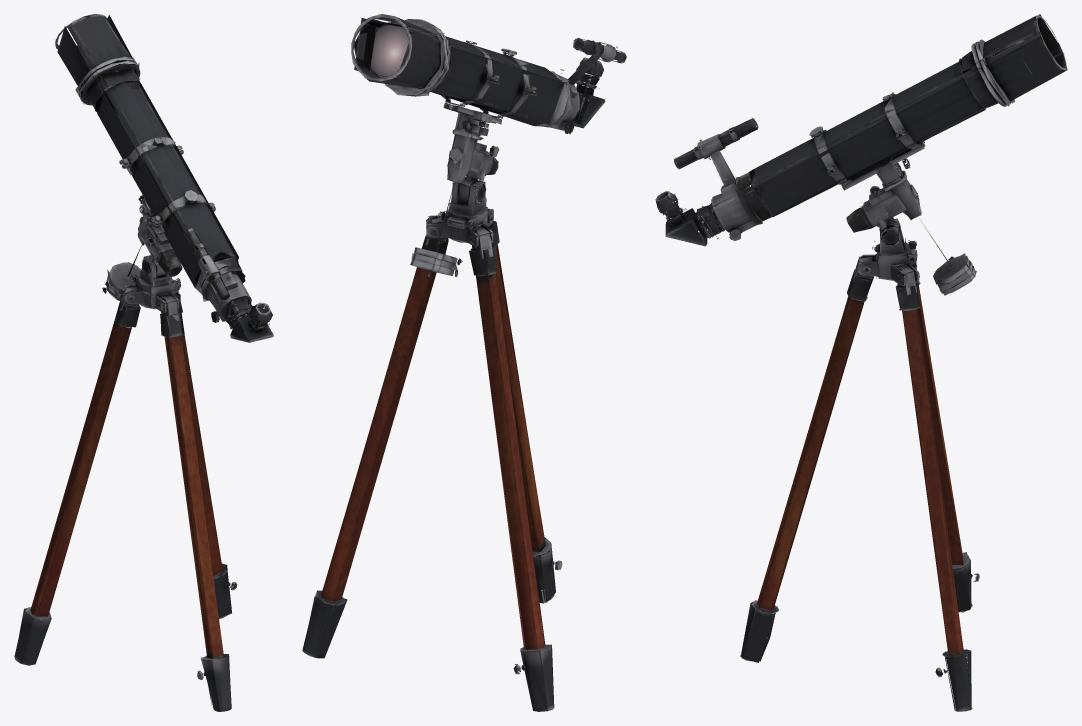
Rendered from telescope.glb.
The picture shows the model from 3 angles, left to right: view 1: azimuth 30°, elevation 25°; view 2: azimuth 150°, elevation 25°; view 3: azimuth 270°, elevation 25°; orthographic projection. The views are drawn at different scales.
Parts seen in each view (by area): view 1: Object_3; view 2: Object_3; view 3: Object_3.
Part boxes in pixels (bbox=[...]): Object_3: bbox=[14, 14, 273, 711]; Object_3: bbox=[302, 14, 626, 711]; Object_3: bbox=[655, 14, 1067, 711].
Size of the model in its own units: 89.25 by 240 by 139.
Materials: 1 (1 with a texture image).
